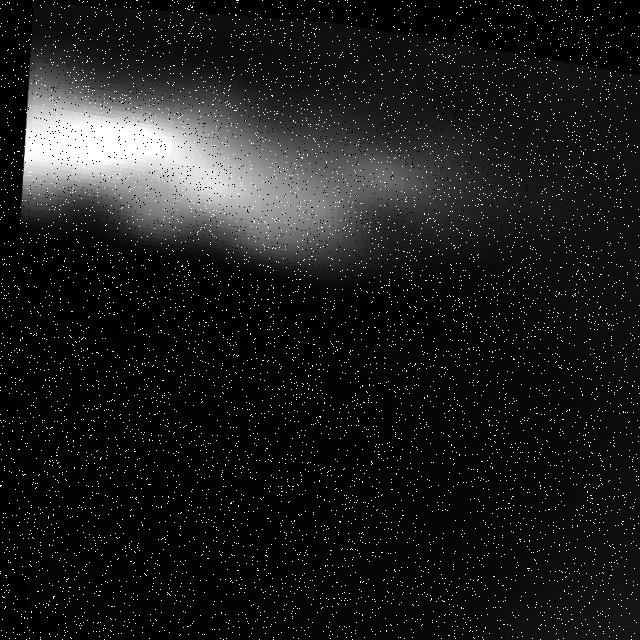person: (7, 30, 533, 341)
